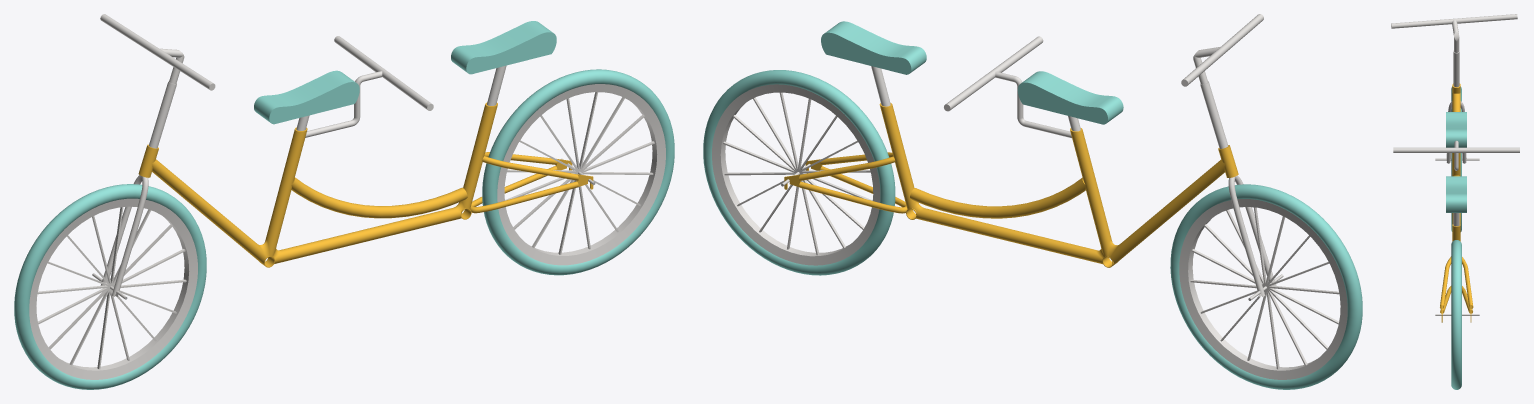
File: tandem.glb
3 views of the same model, side by side, from view 1: azimuth 30°, elevation 25°; view 2: azimuth 150°, elevation 25°; view 3: azimuth 270°, elevation 25° (orthographic). The views are drawn at different scales.
Parts seen in each view (by area): view 1: rueda (×6), Tandem, sillin (×2), tenedor, manubriotandem, manubrio; view 2: rueda (×6), Tandem, sillin (×2), tenedor, manubriotandem, manubrio; view 3: rueda (×2), sillin (×2), Tandem, manubrio, manubriotandem, tenedor.
Boxes of the visible parts, x1,y1,x2,y2 form: rueda (×6): (14, 69, 674, 389); Tandem: (138, 102, 593, 267); sillin (×2): (254, 21, 556, 124); tenedor: (100, 81, 176, 296); manubriotandem: (305, 36, 433, 137); manubrio: (100, 14, 215, 90); rueda (×6): (703, 70, 1362, 389); Tandem: (784, 103, 1238, 267); sillin (×2): (821, 21, 1123, 124); tenedor: (1200, 81, 1276, 297); manubriotandem: (944, 36, 1071, 138); manubrio: (1181, 14, 1263, 86); rueda (×2): (1451, 86, 1461, 389); sillin (×2): (1446, 112, 1466, 212); Tandem: (1440, 83, 1473, 322); manubrio: (1391, 14, 1517, 52); manubriotandem: (1393, 140, 1519, 170); tenedor: (1446, 50, 1466, 163).
Size of the model in its own units: 246 by 118 by 61.04.
